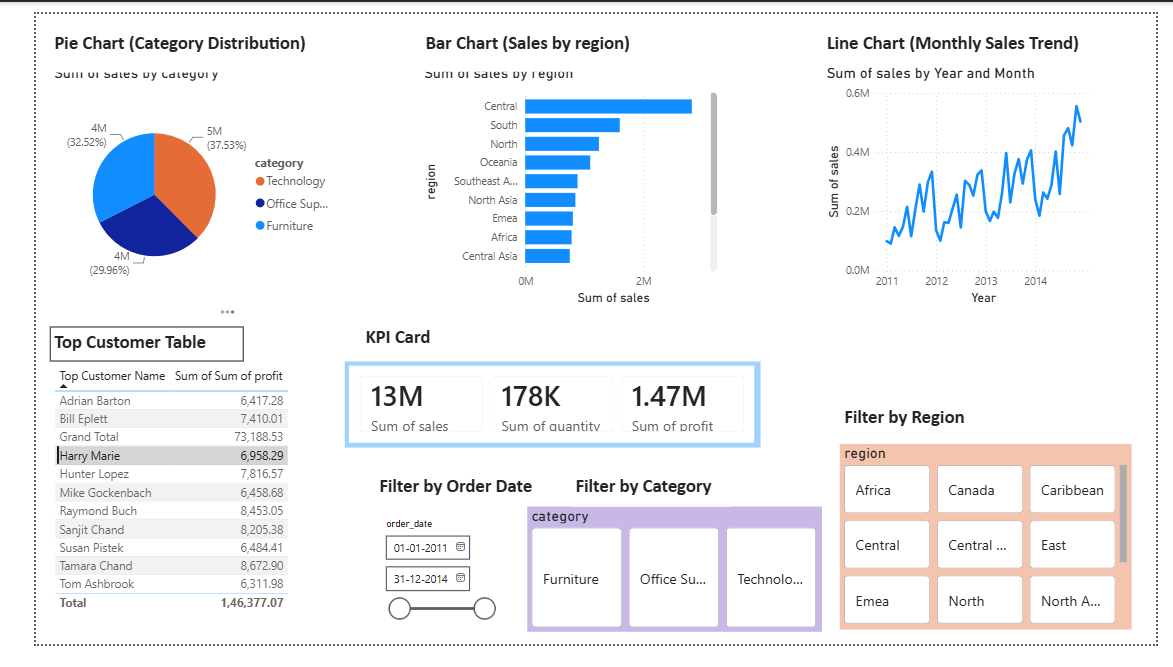

The dashboard page shown, as its layout file describes it:
{"tool":"powerbi","page":{"name":"Page 1","canvas":[1280,720],"ordinal":0},"visuals":[{"type":"clusteredBarChart","fields":{"Y":["Sum(superstore_cleaned_complete.sales)"],"Category":["superstore_cleaned_complete.region"]},"box":[438.3,56.7,345,280],"z":0},{"type":"lineChart","fields":{"Category":["superstore_cleaned_complete.order_date.Variation.Date Hierarchy.Year","superstore_cleaned_complete.order_date.Variation.Date Hierarchy.Month"],"Y":["Sum(superstore_cleaned_complete.sales)"]},"box":[898.3,56.7,313.3,280],"z":1000},{"type":"pieChart","fields":{"Category":["superstore_cleaned_complete.category"],"Y":["Sum(superstore_cleaned_complete.sales)"]},"box":[15,56.7,338.3,280],"z":2000},{"type":"tableEx","fields":{"Values":["Sheet5.Customer Name","Sum(Sheet5.Sum of profit)"]},"box":[15.7,397.1,307.1,310],"z":3000},{"type":"cardVisual","fields":{"Data":["Sum(superstore_cleaned_complete.sales)","Sum(superstore_cleaned_complete.quantity)","Sum(superstore_cleaned_complete.profit)"]},"box":[353.3,396.7,475,98.3],"z":4000},{"type":"textbox","box":[15,15,307.5,51.2],"z":5000},{"type":"textbox","box":[440,15,285,50],"z":6000},{"type":"textbox","box":[898.8,15,313.8,41.2],"z":7000},{"type":"textbox","box":[15,356.7,221.7,40],"z":8000},{"type":"textbox","box":[371.7,351.7,175,45],"z":9000},{"type":"advancedSlicerVisual","fields":{"Values":["superstore_cleaned_complete.region"]},"box":[918.3,491.7,333.3,211.7],"z":10000},{"type":"slicer","fields":{"Values":["superstore_cleaned_complete.order_date"]},"box":[386.7,571.7,146.7,131.7],"z":11000},{"type":"textbox","box":[918.3,443.3,156.7,48.3],"z":12000},{"type":"advancedSlicerVisual","fields":{"Values":["superstore_cleaned_complete.category"]},"box":[561.7,563.3,336.7,143.3],"z":13000},{"type":"textbox","box":[386.7,521.7,196.7,38.3],"z":14000},{"type":"textbox","box":[611.7,521.7,183.3,41.7],"z":15000}]}

Visuals, with their boxes in screenshot pixels (x1, y1, x2, y2), scaled from the page's 1280x720 canvas onto the 1173x667 screenshot:
clusteredBarChart - Sum(superstore_cleaned_complete.sales) x superstore_cleaned_complete.region: <region>402, 53, 718, 312</region>
lineChart - superstore_cleaned_complete.order_date.Variation.Date Hierarchy.Year x superstore_cleaned_complete.order_date.Variation.Date Hierarchy.Month: <region>823, 53, 1110, 312</region>
pieChart - superstore_cleaned_complete.category x Sum(superstore_cleaned_complete.sales): <region>14, 53, 324, 312</region>
tableEx - Sheet5.Customer Name x Sum(Sheet5.Sum of profit): <region>14, 368, 296, 655</region>
cardVisual - Sum(superstore_cleaned_complete.sales) x Sum(superstore_cleaned_complete.quantity): <region>324, 367, 759, 459</region>
textbox: <region>14, 14, 296, 61</region>
textbox: <region>403, 14, 664, 60</region>
textbox: <region>824, 14, 1111, 52</region>
textbox: <region>14, 330, 217, 367</region>
textbox: <region>341, 326, 501, 367</region>
advancedSlicerVisual - superstore_cleaned_complete.region: <region>842, 456, 1147, 652</region>
slicer - superstore_cleaned_complete.order_date: <region>354, 530, 489, 652</region>
textbox: <region>842, 411, 985, 455</region>
advancedSlicerVisual - superstore_cleaned_complete.category: <region>515, 522, 823, 655</region>
textbox: <region>354, 483, 535, 519</region>
textbox: <region>561, 483, 729, 522</region>
